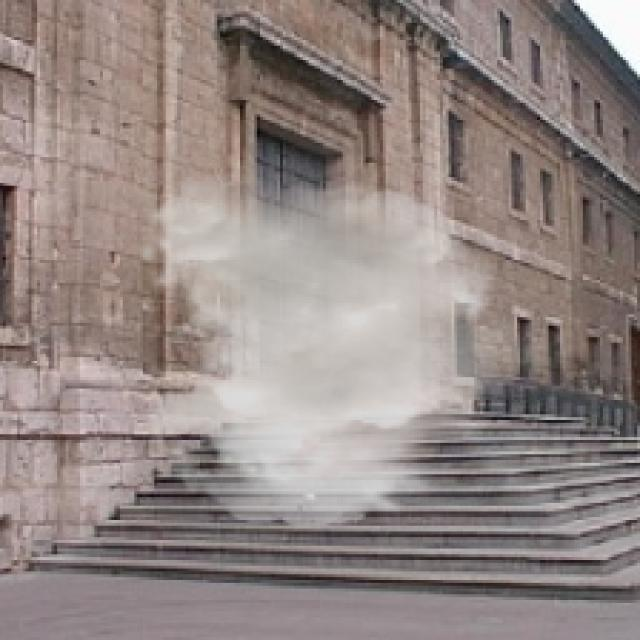smoke: (134, 172, 549, 528)
